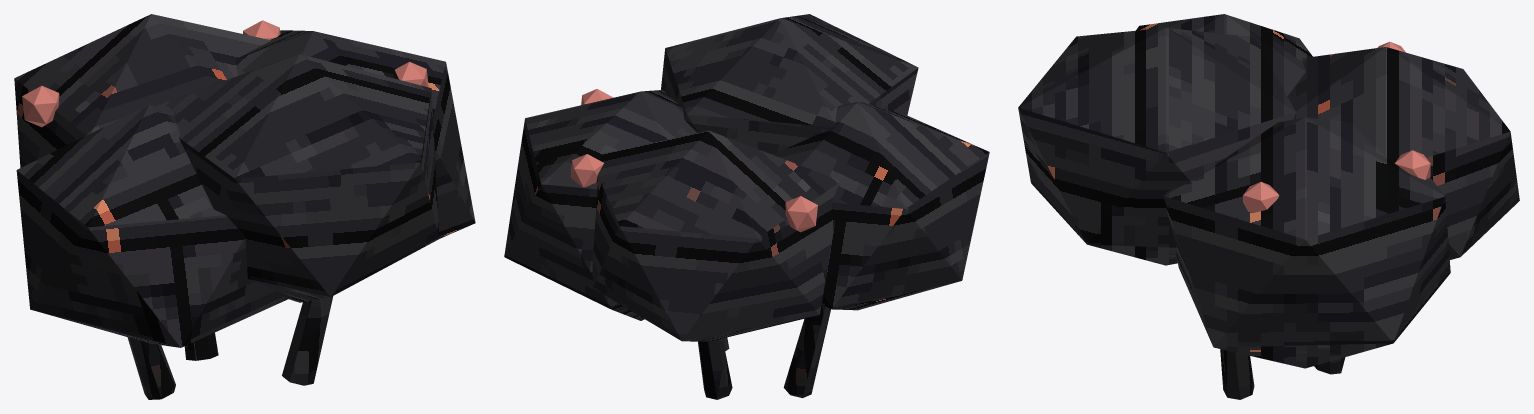
Rendered from arbusto.glb.
The picture shows the model from 3 angles, left to right: view 1: azimuth 30°, elevation 25°; view 2: azimuth 150°, elevation 25°; view 3: azimuth 270°, elevation 25°; orthographic projection. The views are drawn at different scales.
Parts seen in each view (by area): view 1: vulcao_arbusto; view 2: vulcao_arbusto; view 3: vulcao_arbusto.
Boxes of the visible parts, left/top/right/bottom form: vulcao_arbusto: left=14, top=14, right=475, bottom=399; vulcao_arbusto: left=504, top=14, right=989, bottom=399; vulcao_arbusto: left=1018, top=14, right=1519, bottom=399.
Size of the model in its own units: 0.6892 by 0.5252 by 0.6839.
3 materials, 2 textured.
